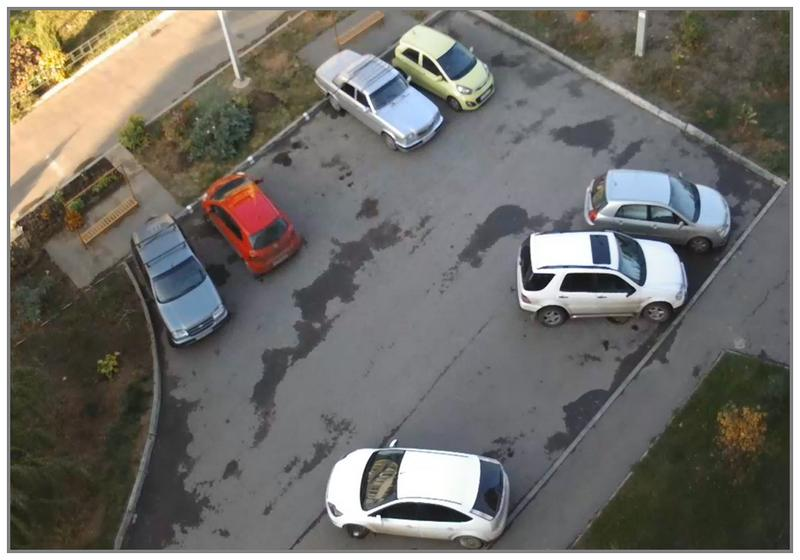empty: (321, 442, 520, 542), (511, 229, 694, 321), (134, 214, 233, 346), (579, 168, 728, 243), (331, 56, 439, 151), (203, 173, 303, 273), (401, 27, 496, 110)
occupied: (463, 346, 580, 441), (252, 142, 373, 205)
